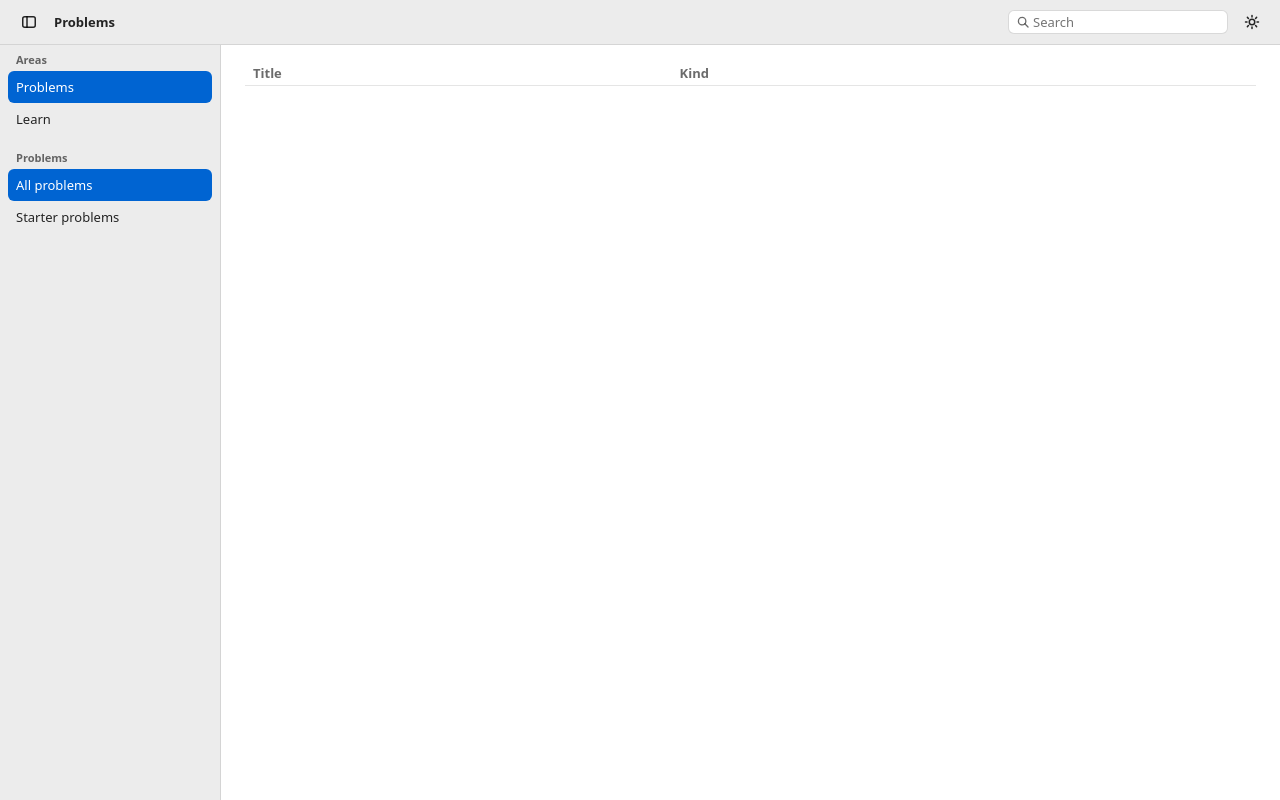
Test: App shell (spec 003) › FR-19: the shortcut-list combo opens the list on any screen
Expected: the element "Problems" is shown, [0, 0, 1279, 45]
Expected: the dialog "Keyboard shortcuts" is not shown
Press ?
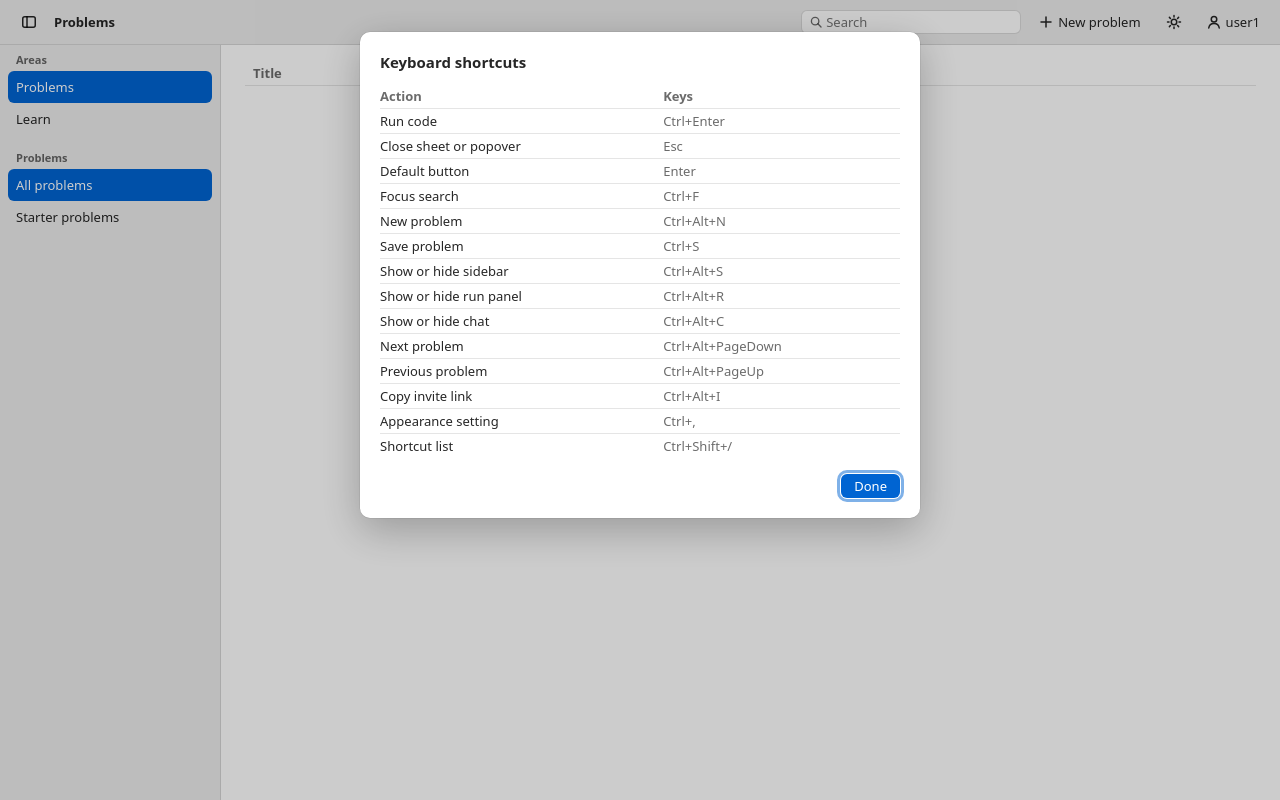
Now the dialog "Keyboard shortcuts" shows "Run code", box [380, 112, 437, 130]
Click the button "Done" at (871, 486), box [841, 474, 900, 498]
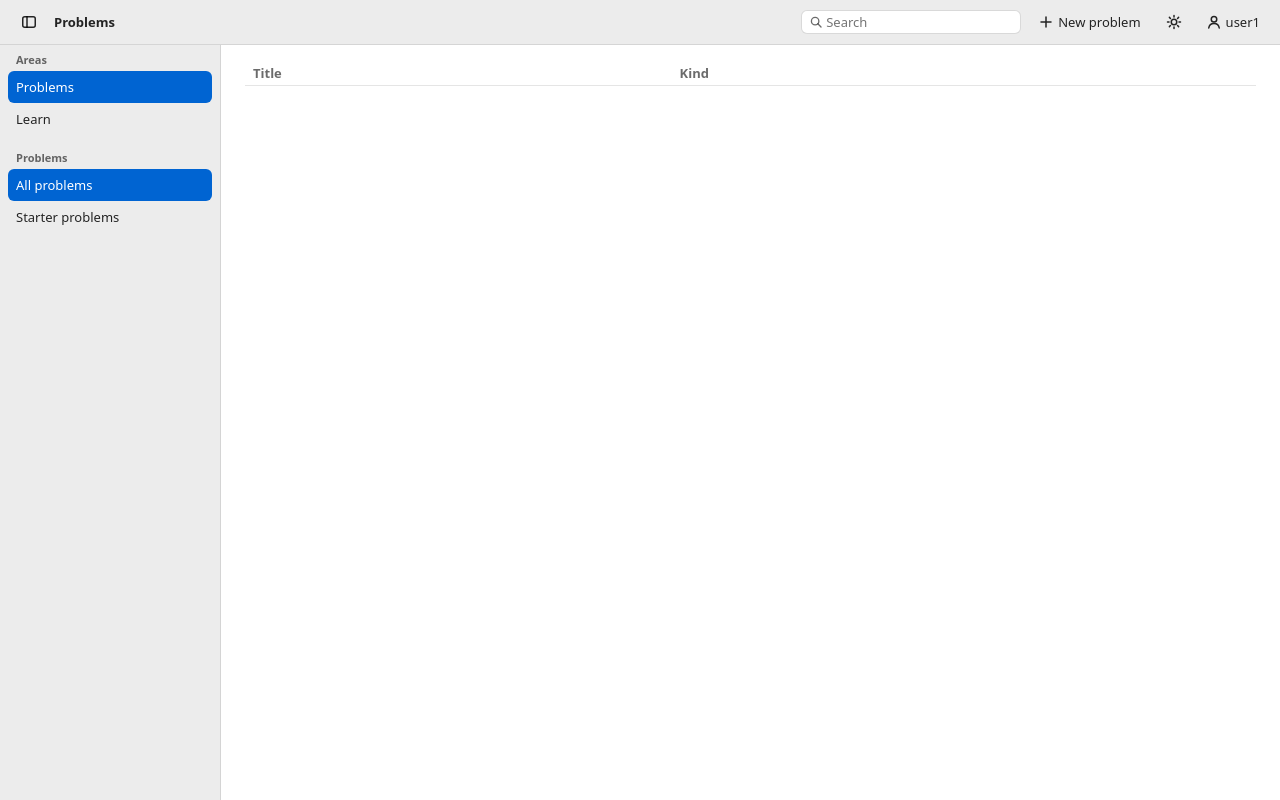
Now the heading "Keyboard shortcuts" is gone
